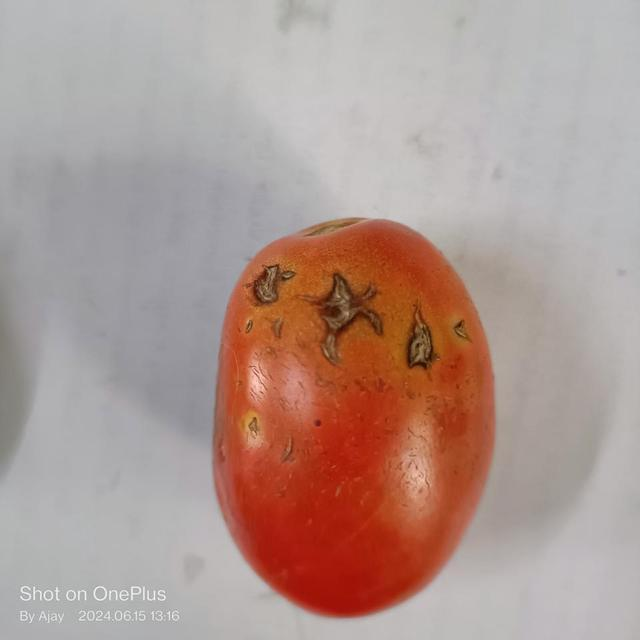Bacterial Spot Fruit: (18, 18, 308, 224)
